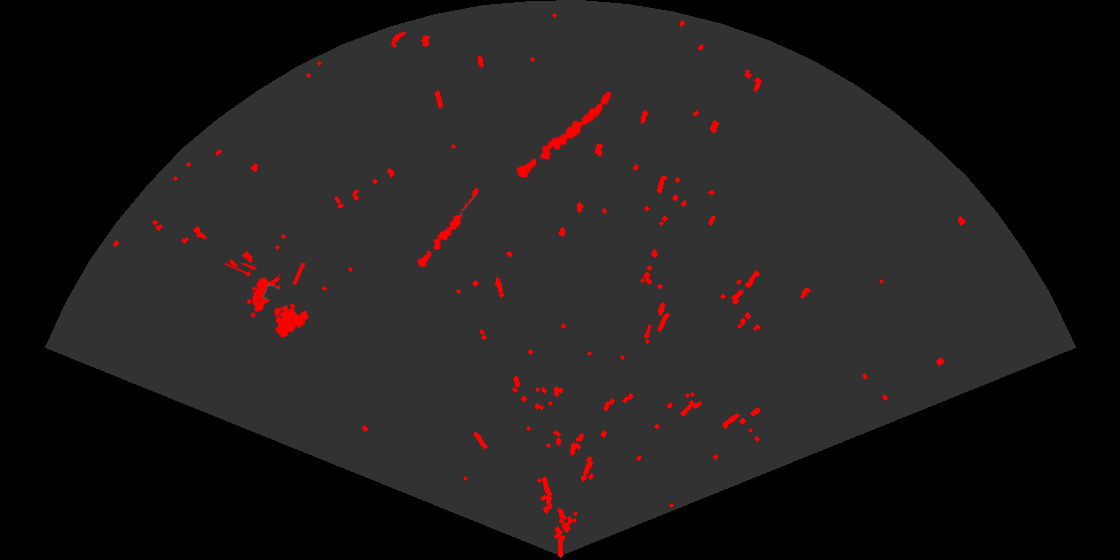cage: (225, 263, 310, 339)
chain: (515, 90, 613, 180), (415, 186, 480, 269)
